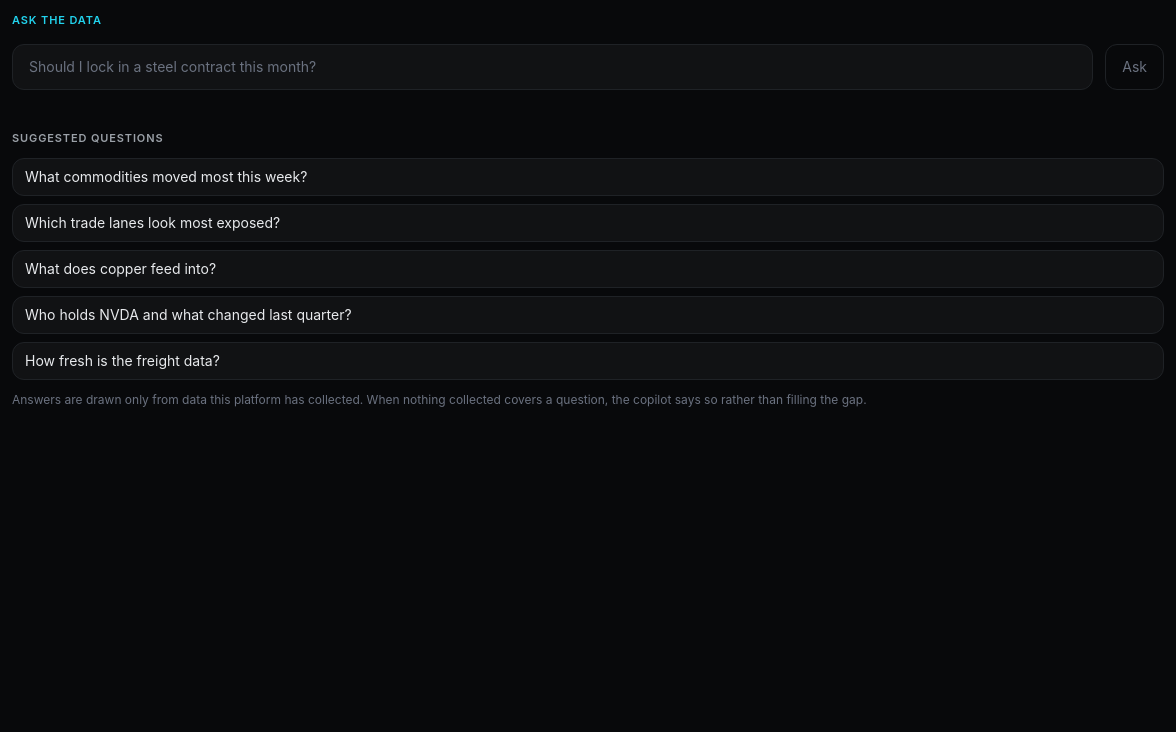
it: CopilotConversation › reports an answer that had no data behind it without pretending otherwise
Type "price of unobtainium" into the field named "Your question" at (553, 67), box [12, 44, 1093, 90]
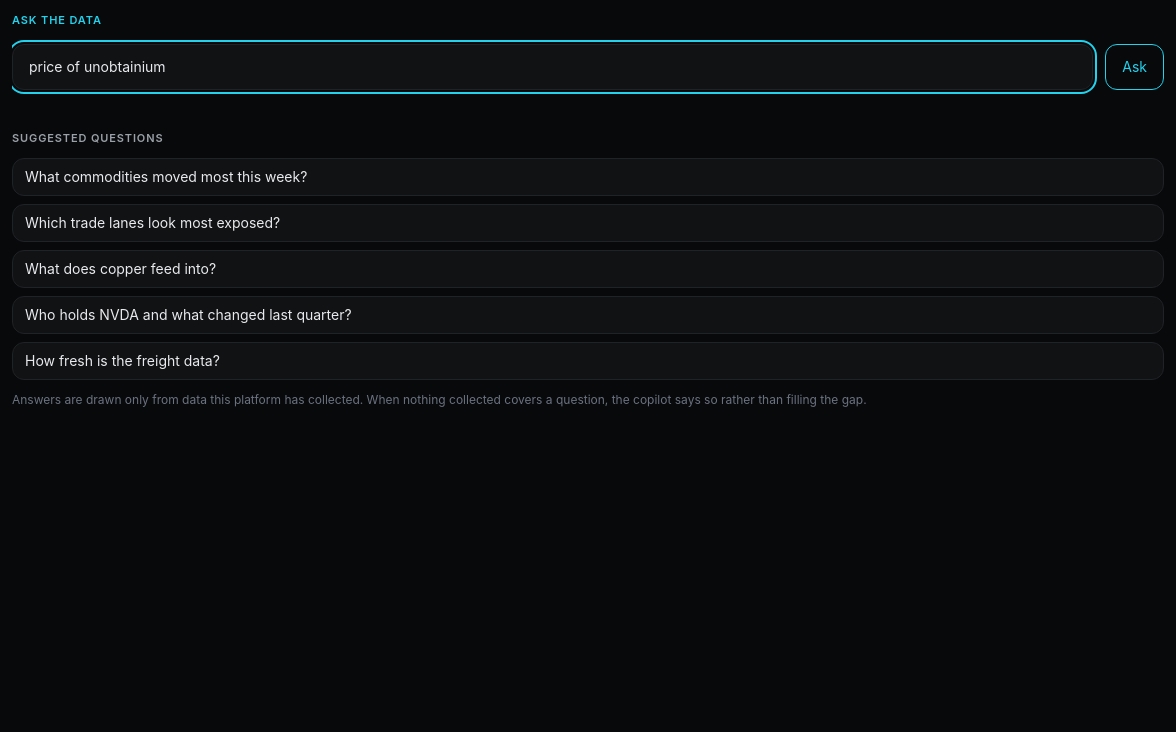
Click the button "Ask" at (1135, 67), box [1105, 44, 1164, 90]
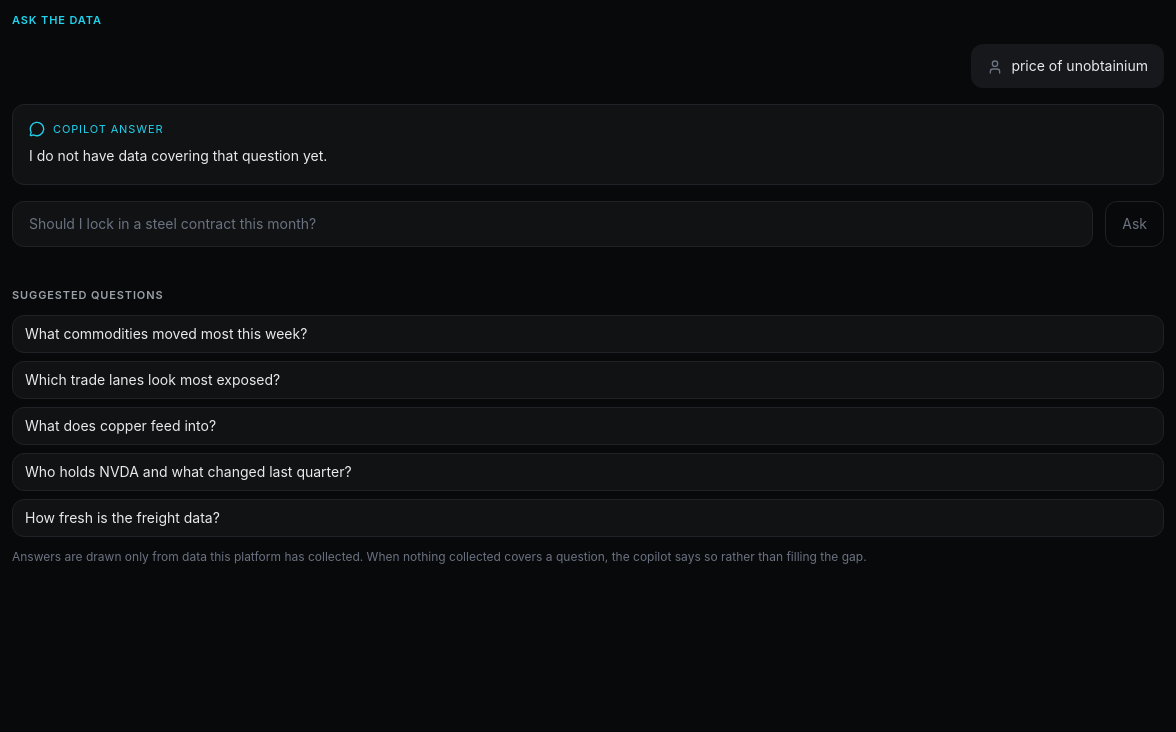
Check: the text "I do not have data covering that question yet." is shown, box [29, 147, 327, 164]
